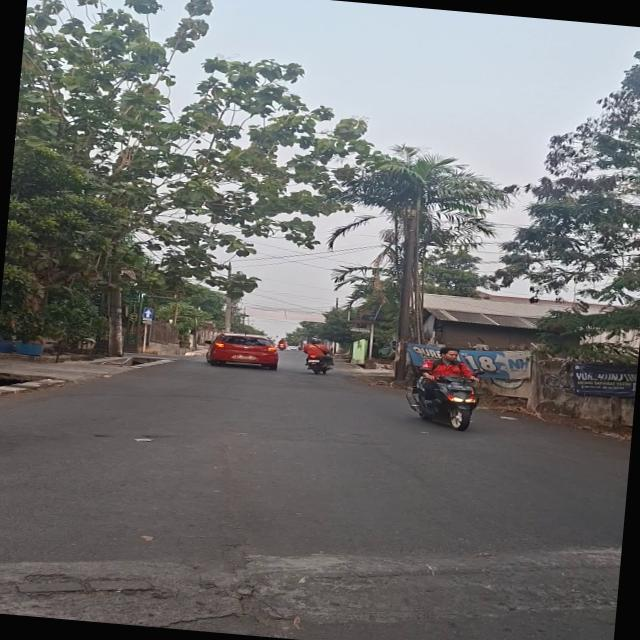WithHelmet: (300, 337, 337, 370), (276, 338, 287, 348)
WithoutHelmet: (403, 340, 492, 433)
